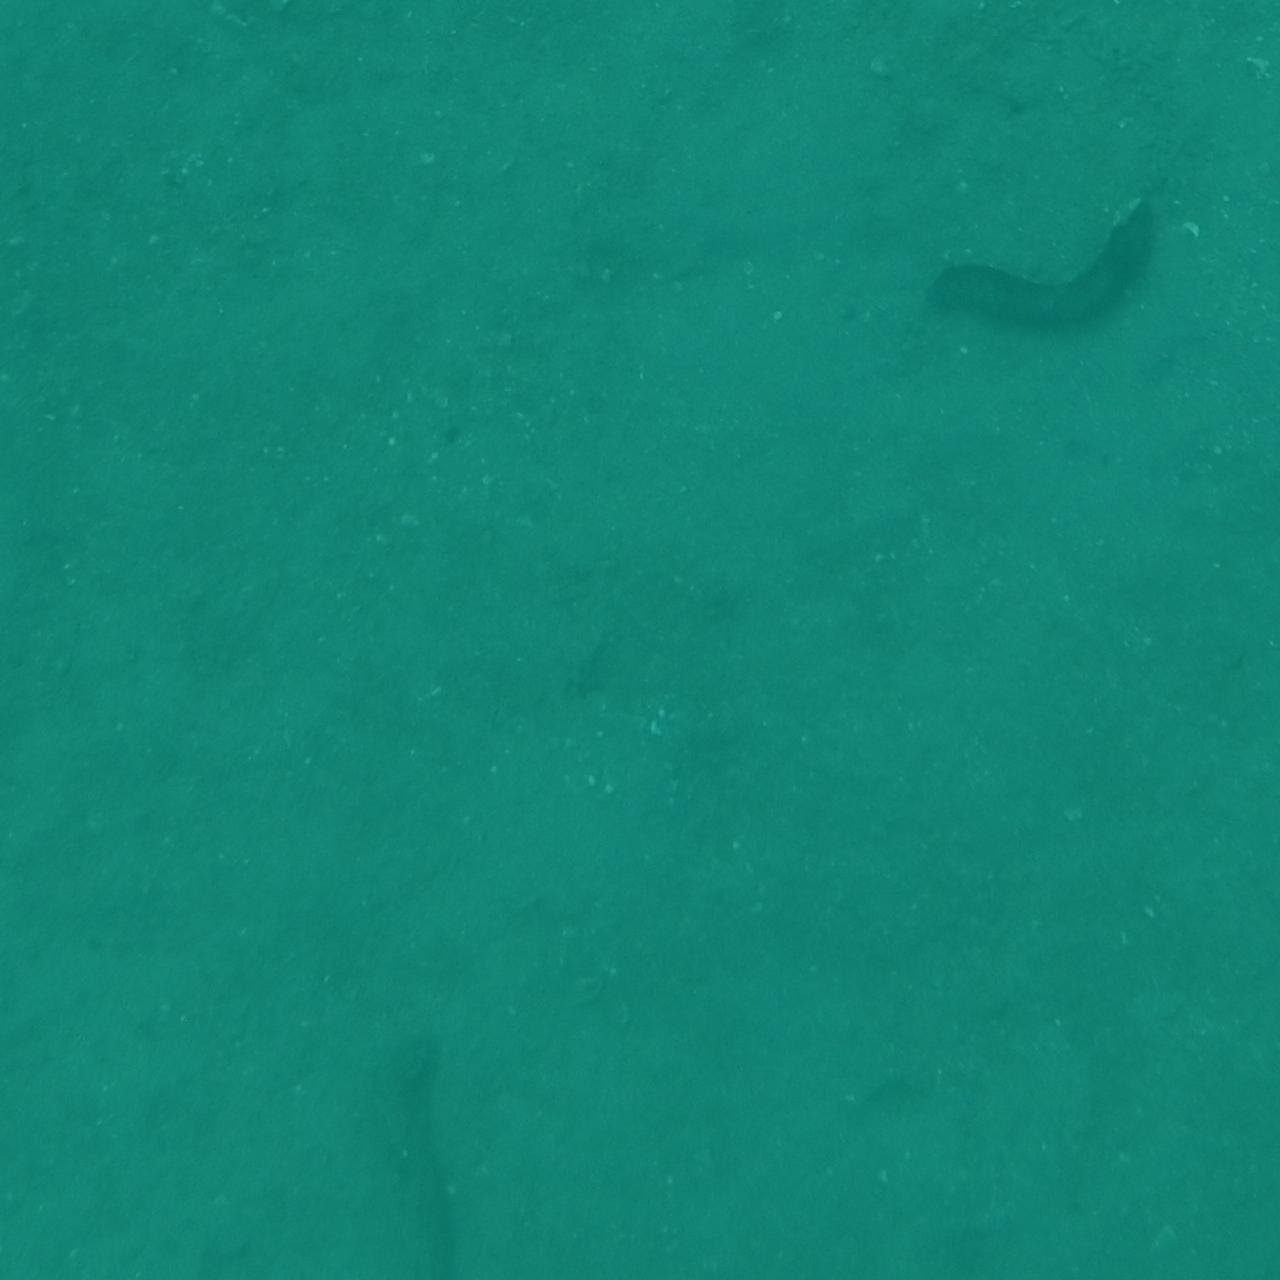Holothuria tubulosa: (925, 197, 1179, 338), (336, 1015, 463, 1280), (0, 341, 96, 645), (0, 704, 158, 880), (504, 0, 749, 80), (0, 1046, 151, 1173), (1063, 1194, 1280, 1280), (0, 403, 66, 682), (1189, 585, 1280, 779), (0, 1210, 252, 1280), (1217, 355, 1280, 625), (1157, 1169, 1280, 1280), (1182, 0, 1280, 138), (1198, 924, 1280, 1068), (0, 0, 70, 148), (0, 0, 77, 134), (0, 0, 105, 53)
